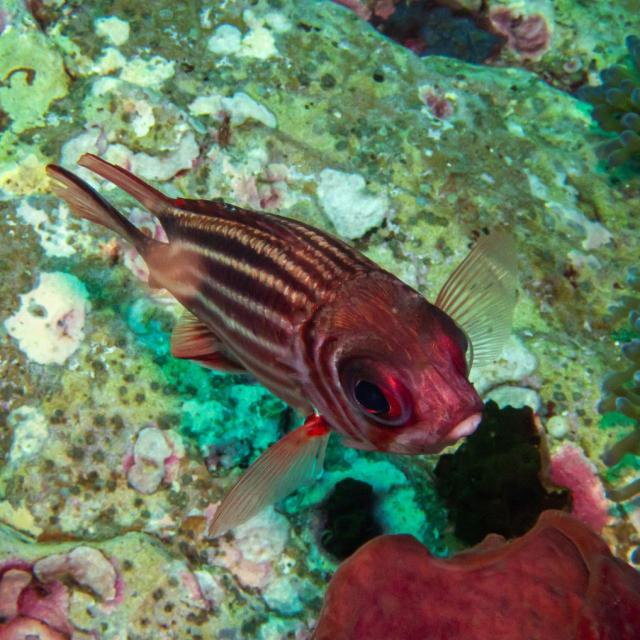Asker Baligi: (43, 149, 522, 540)
